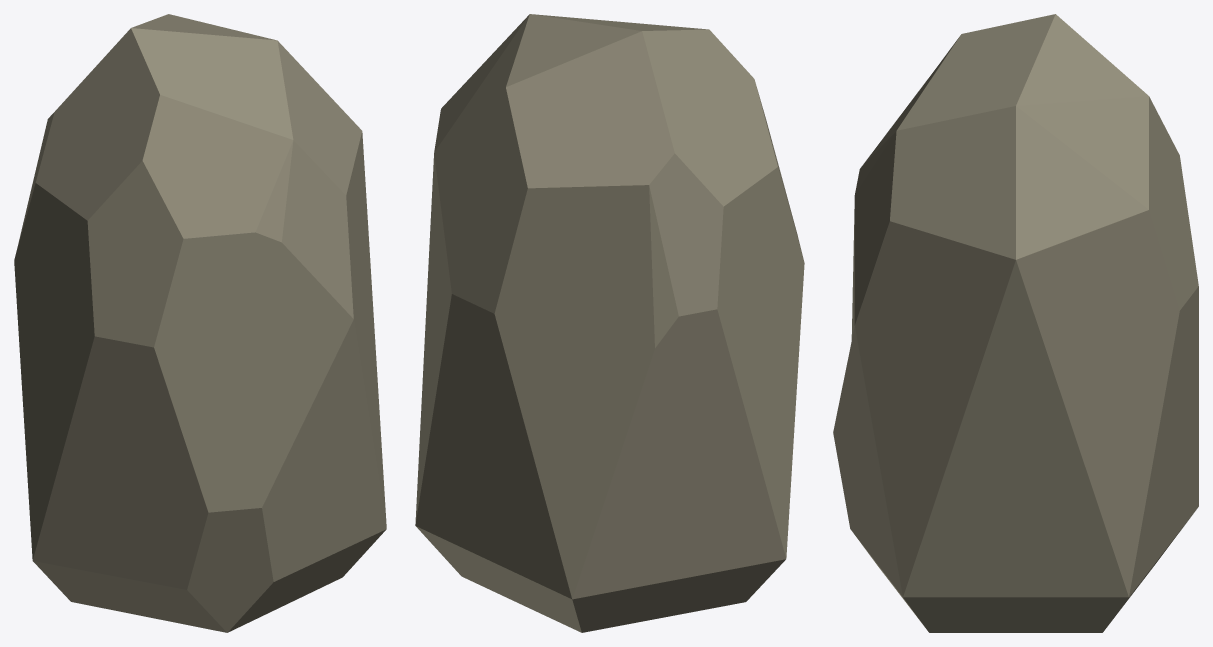
Rendered from rock1.fbx.
The picture shows the model from 3 angles, left to right: view 1: azimuth 30°, elevation 25°; view 2: azimuth 150°, elevation 25°; view 3: azimuth 270°, elevation 25°; orthographic projection. The views are drawn at different scales.
Parts seen in each view (by area): view 1: Icosphere; view 2: Icosphere; view 3: Icosphere.
Part boxes in pixels (x1=…): Icosphere: x1=14, y1=14, x2=386, y2=632; Icosphere: x1=415, y1=14, x2=804, y2=632; Icosphere: x1=833, y1=14, x2=1198, y2=632.
Bounding box in the file's own units: 179 × 281 × 170.
